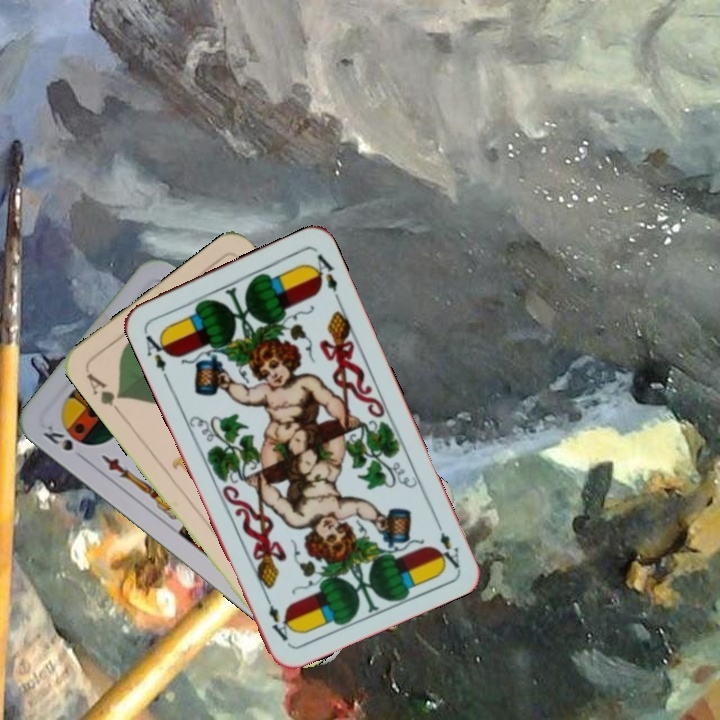EA: (430, 514, 462, 570), (141, 329, 174, 382)
GA: (82, 368, 126, 417)
SK: (39, 421, 89, 464)
